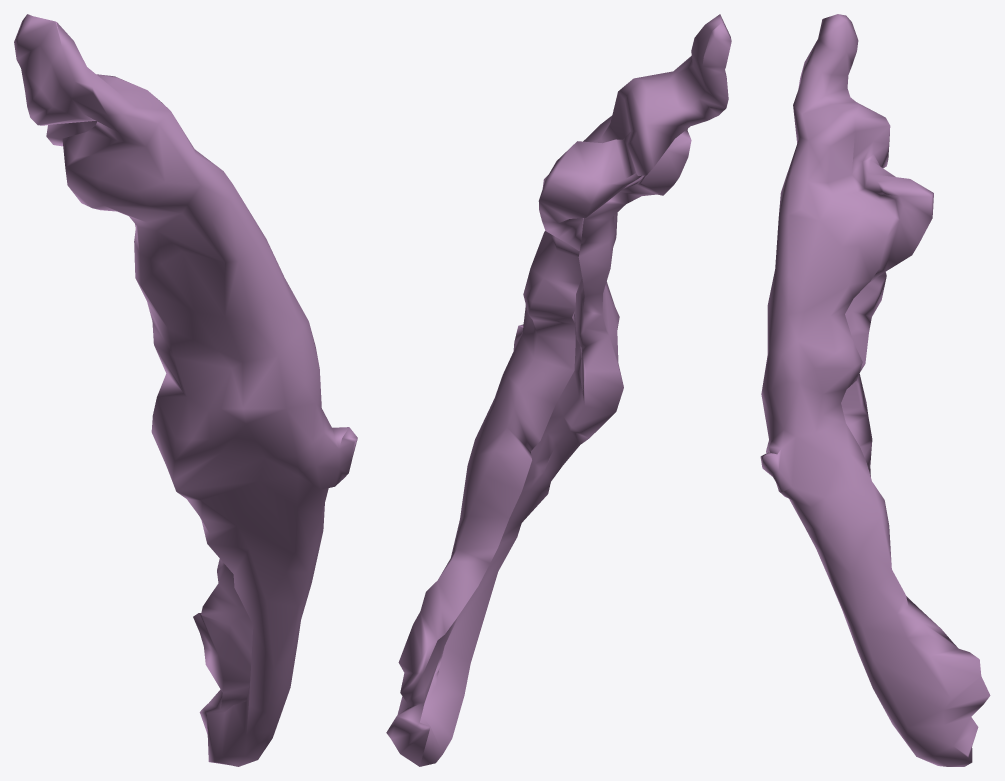
3 views of the same model, side by side, from view 1: azimuth 30°, elevation 25°; view 2: azimuth 150°, elevation 25°; view 3: azimuth 270°, elevation 25° (orthographic). The views are drawn at different scales.
Visible parts, largest first — view 1: 左侧侧副沟; view 2: 左侧侧副沟; view 3: 左侧侧副沟.
Boxes of the visible parts, bbox=[...] form: 左侧侧副沟: bbox=[14, 14, 357, 766]; 左侧侧副沟: bbox=[386, 14, 731, 766]; 左侧侧副沟: bbox=[760, 14, 990, 766].
Bounding box in the file's own units: 0.0468 × 0.1223 × 0.0389.
